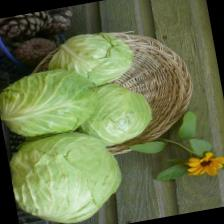cabbage: (4, 124, 128, 224), (0, 61, 104, 144), (62, 76, 156, 152), (41, 25, 137, 93)
